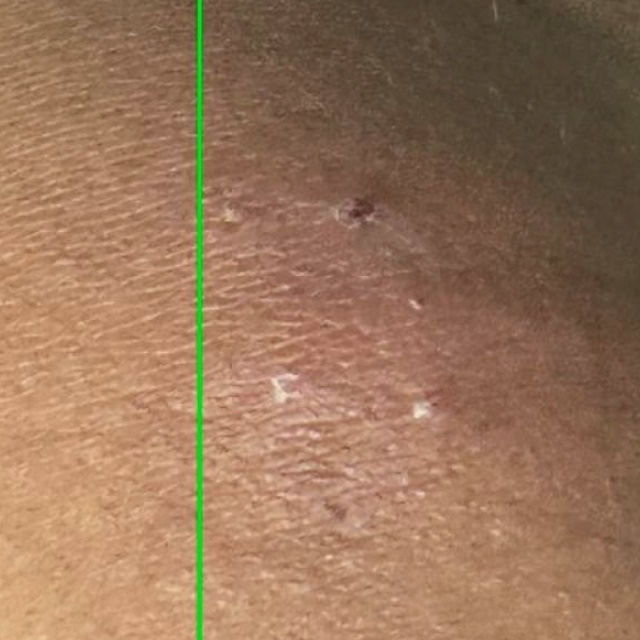Tinea Corporis: (199, 0, 639, 639)
